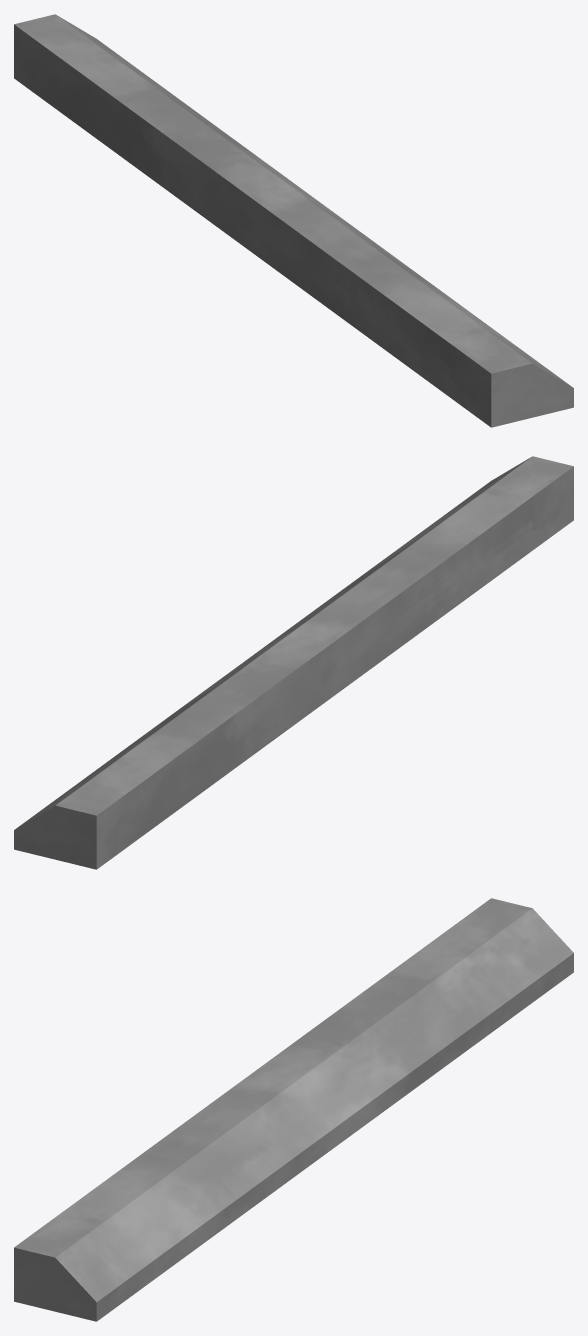
File: Viga_Horizontal_Bar_A.fbx
The picture shows the model from 3 angles, top to bottom: view 1: azimuth 30°, elevation 25°; view 2: azimuth 150°, elevation 25°; view 3: azimuth 330°, elevation 25°; orthographic projection.
Parts seen in each view (by area): view 1: Cube.079; view 2: Cube.079; view 3: Cube.079.
Boxes of the visible parts, x1,y1,x2,y2 form: Cube.079: [14, 14, 573, 427]; Cube.079: [14, 456, 573, 869]; Cube.079: [14, 898, 573, 1321].
Bounding box in the file's own units: 40 × 25 × 400.
